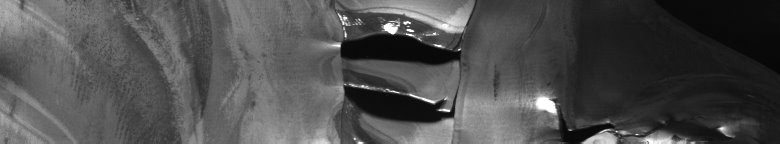ke: (323, 0, 758, 144)
